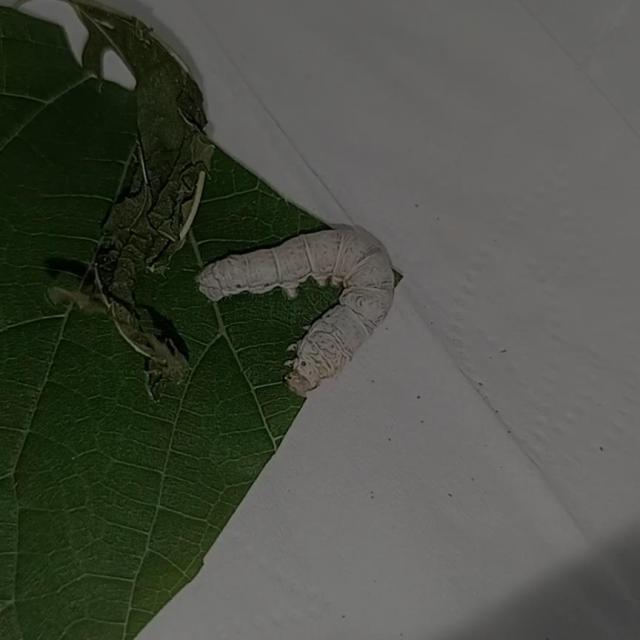Healthy: (167, 202, 440, 456)
